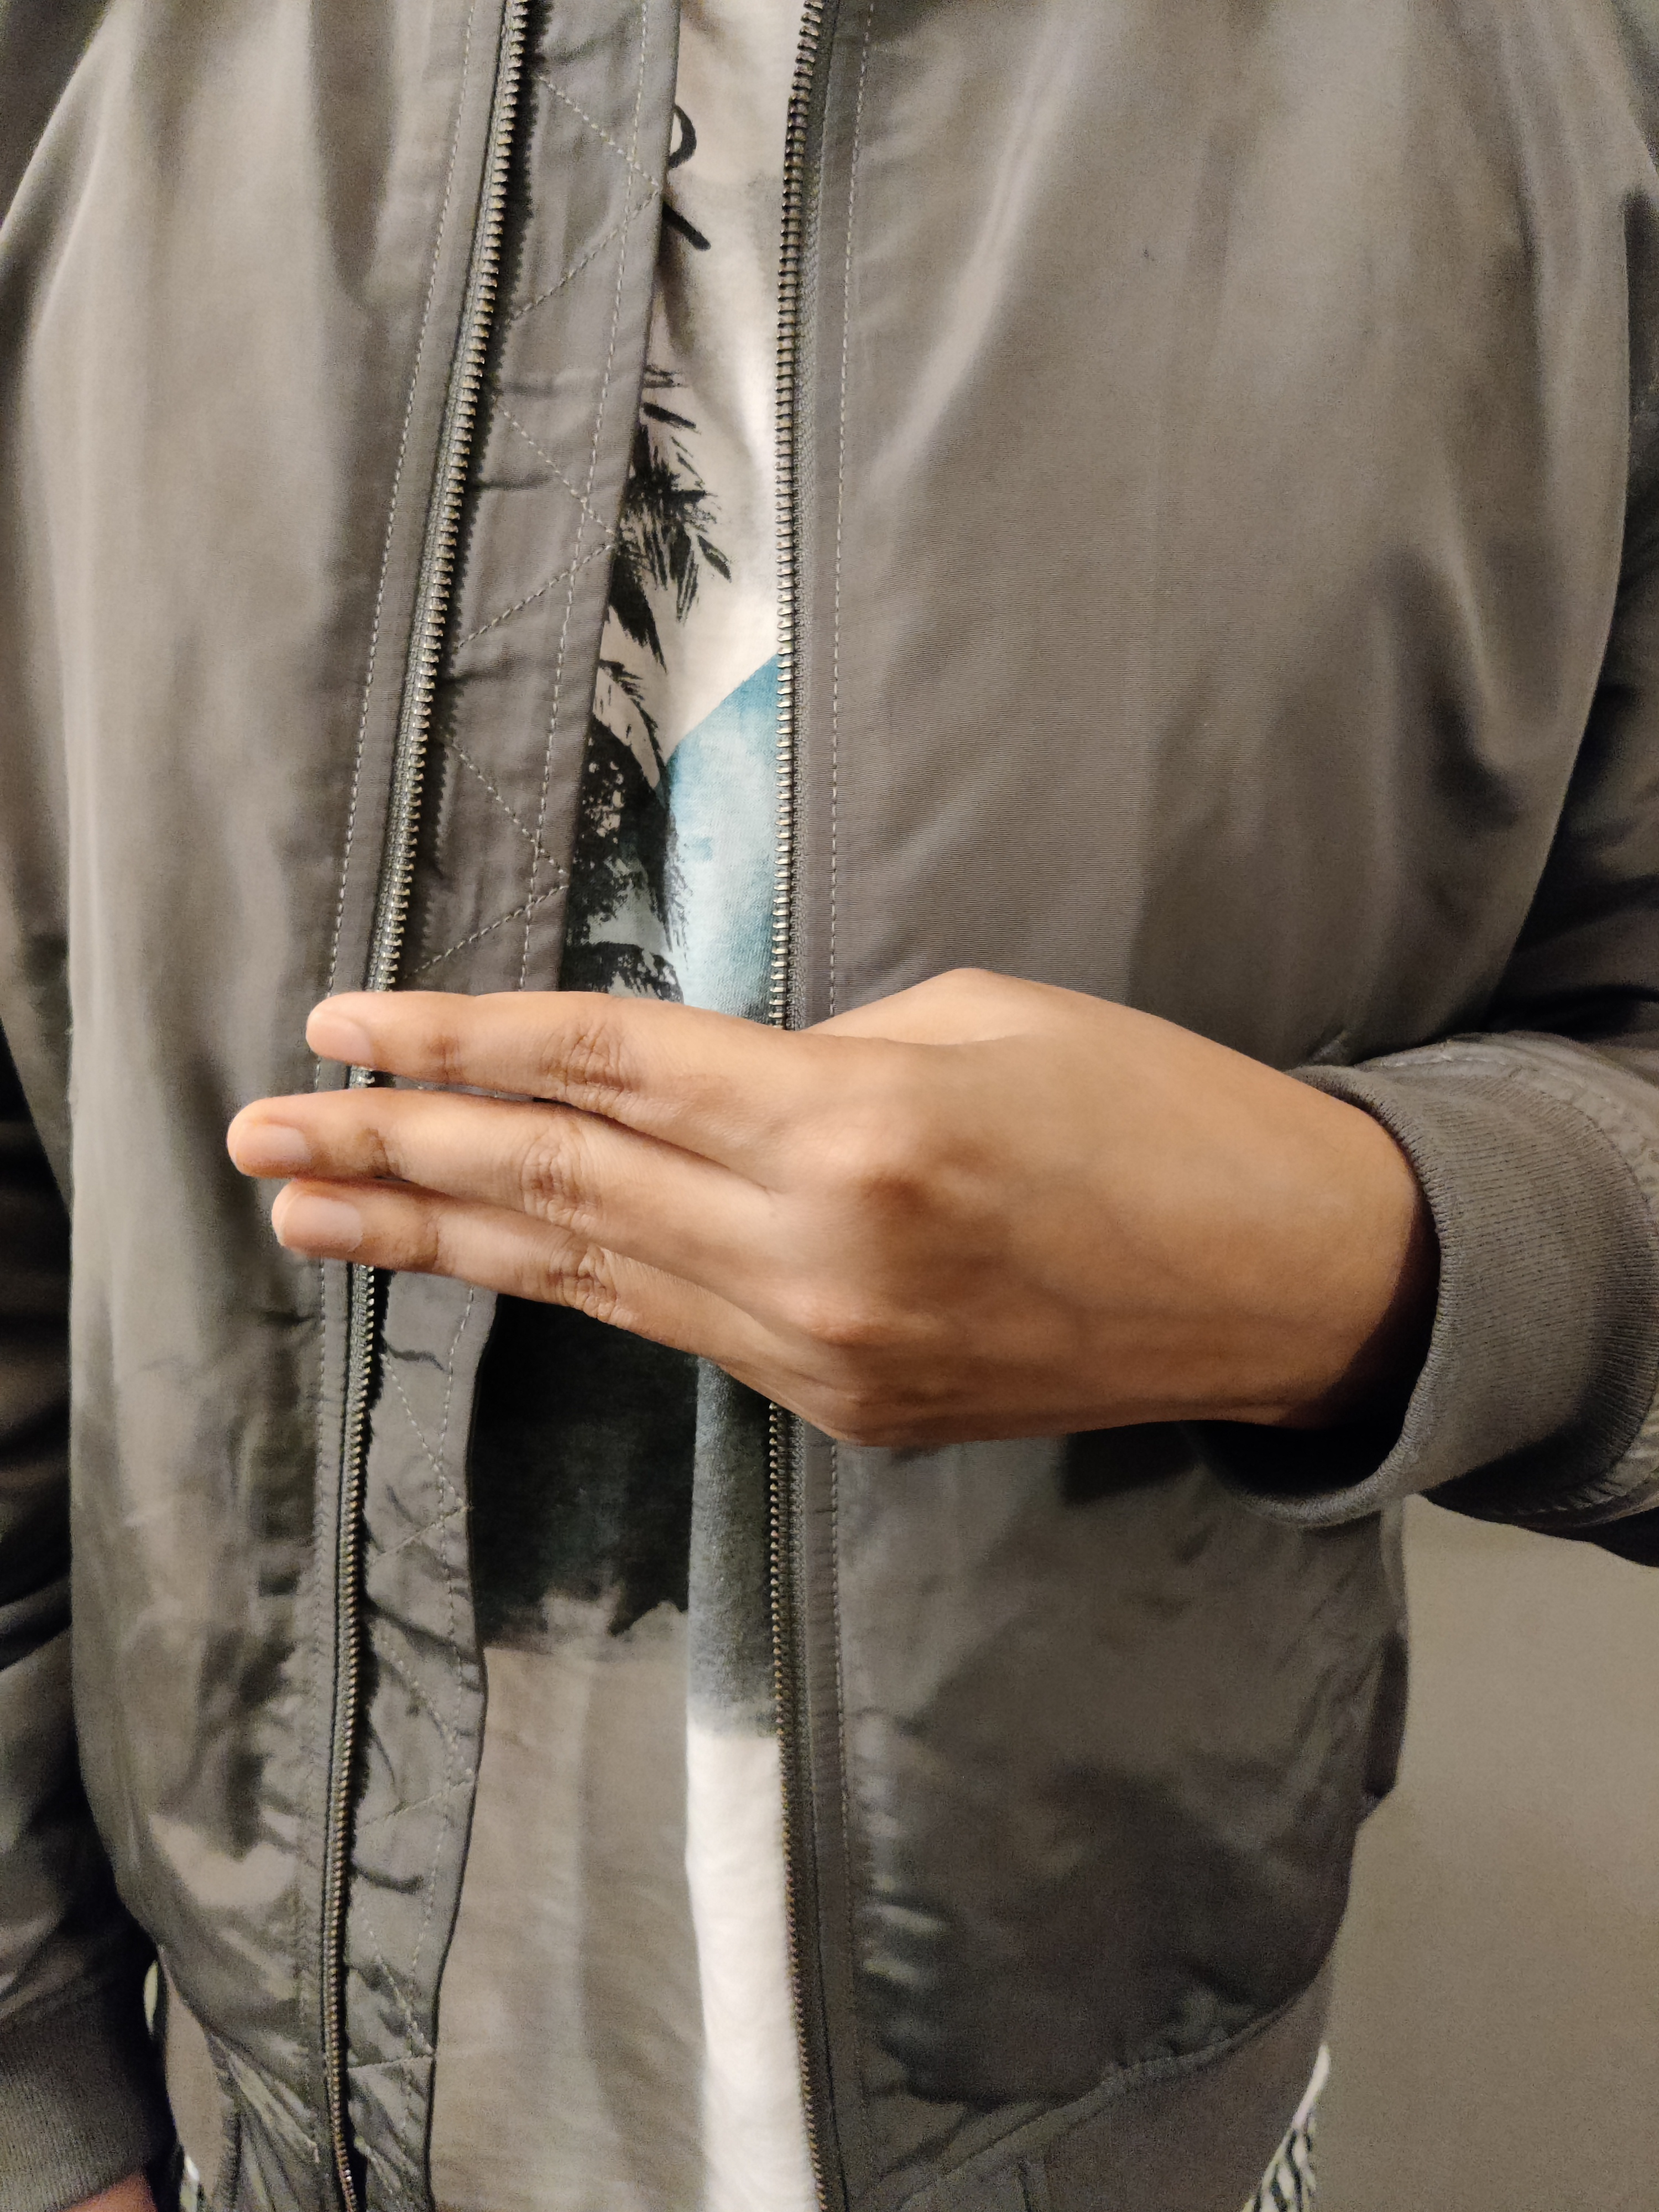right: (89, 728, 1514, 1691)
